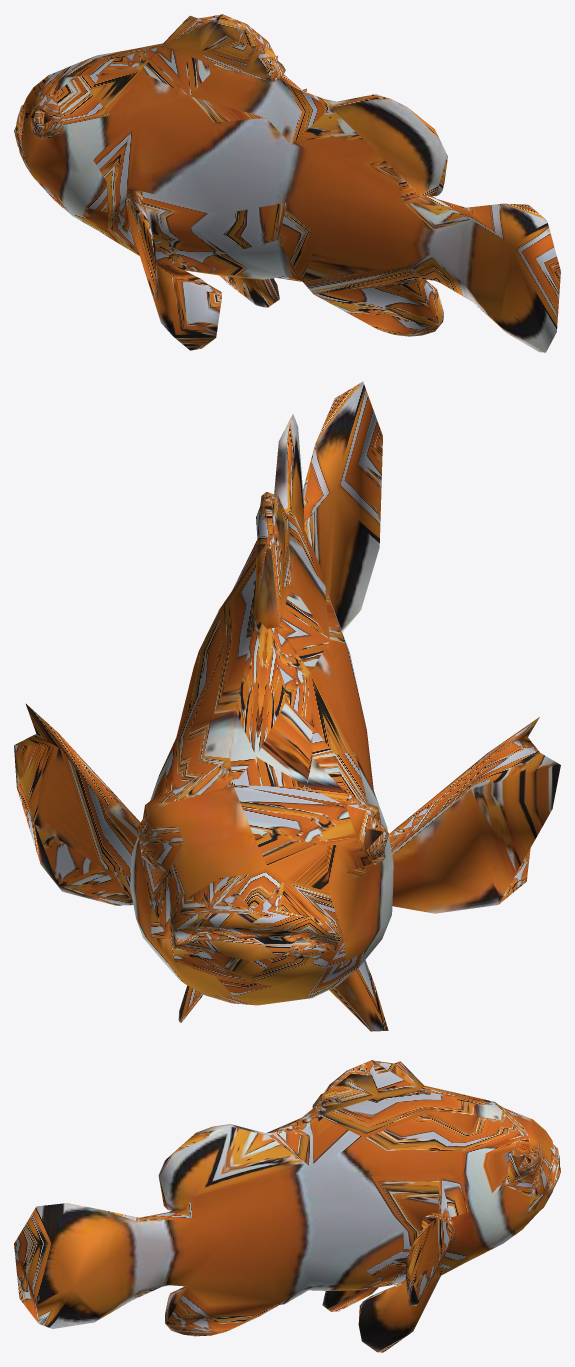
The model's file is clownvis-ver.glb.
3 views of the same model, one above another, from view 1: azimuth 30°, elevation 25°; view 2: azimuth 150°, elevation 25°; view 3: azimuth 270°, elevation 25° (orthographic). The views are drawn at different scales.
Visible parts, largest first — view 1: tripo_node_1a559b6d-9a50-458f-a80b-7943aee0c47e; view 2: tripo_node_1a559b6d-9a50-458f-a80b-7943aee0c47e; view 3: tripo_node_1a559b6d-9a50-458f-a80b-7943aee0c47e.
Boxes of the visible parts, box(x1,y1,x2,y2) form: tripo_node_1a559b6d-9a50-458f-a80b-7943aee0c47e: box(14, 14, 560, 352); tripo_node_1a559b6d-9a50-458f-a80b-7943aee0c47e: box(14, 381, 560, 1031); tripo_node_1a559b6d-9a50-458f-a80b-7943aee0c47e: box(14, 1060, 560, 1352).
Size of the model in its own units: 0.1345 by 0.15 by 0.2728.
Materials: 1 (1 with a texture image).
